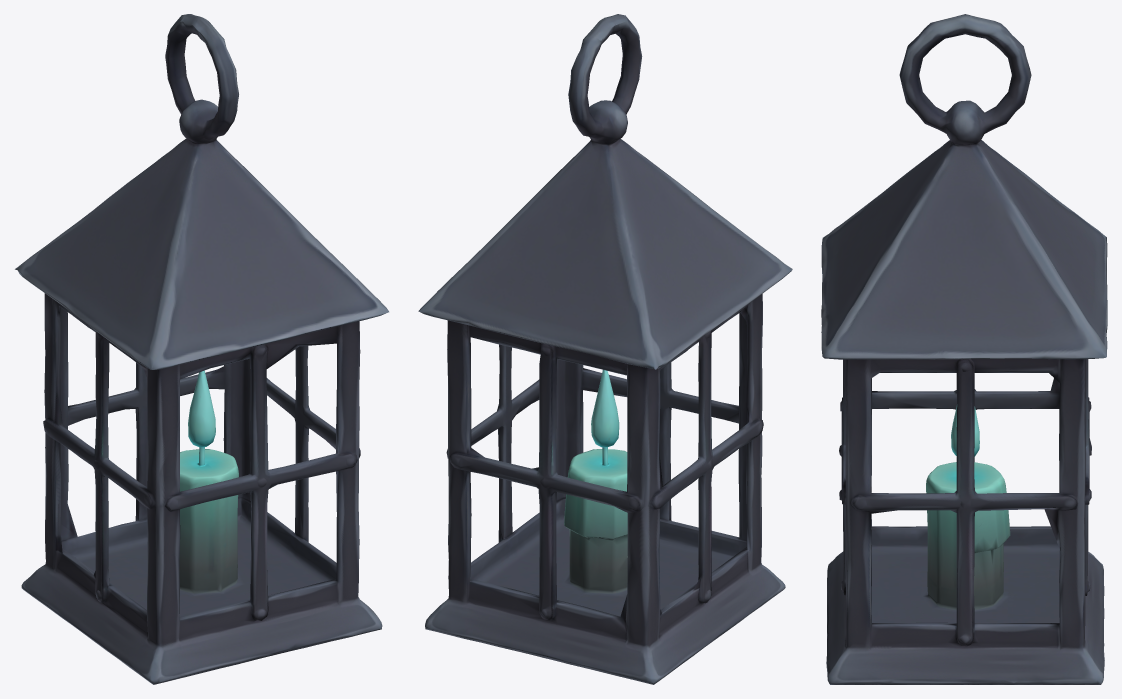
The model's file is lantern.glb.
3 views of the same model, side by side, from view 1: azimuth 30°, elevation 25°; view 2: azimuth 150°, elevation 25°; view 3: azimuth 270°, elevation 25° (orthographic). The views are drawn at different scales.
Parts seen in each view (by area): view 1: tripo_node_62bc5151-ec92-44cd-8cac-1aed3ead1974; view 2: tripo_node_62bc5151-ec92-44cd-8cac-1aed3ead1974; view 3: tripo_node_62bc5151-ec92-44cd-8cac-1aed3ead1974.
Boxes of the visible parts, x1,y1,x2,y2 form: tripo_node_62bc5151-ec92-44cd-8cac-1aed3ead1974: (15,14,388,684); tripo_node_62bc5151-ec92-44cd-8cac-1aed3ead1974: (418,14,792,684); tripo_node_62bc5151-ec92-44cd-8cac-1aed3ead1974: (821,14,1107,684).
Bounding box in the file's own units: 0.4176 × 0.978 × 0.415.
1 material, 1 textured.
